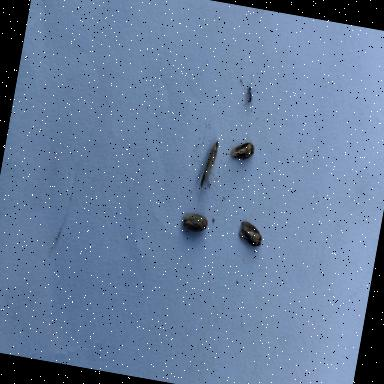pbw: (198, 135, 222, 193), (236, 218, 267, 252), (182, 208, 210, 236), (230, 134, 256, 164)
